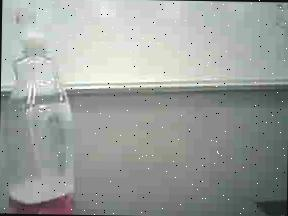hazard: (0, 0, 93, 215)
